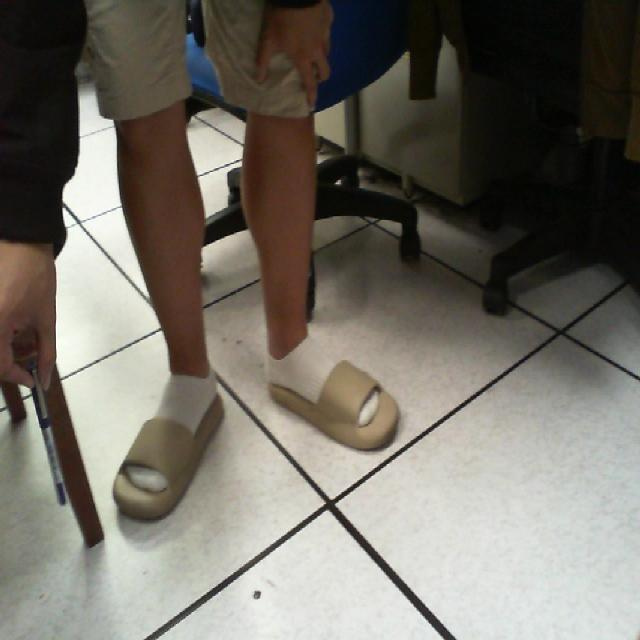Pen: (16, 338, 87, 527)
